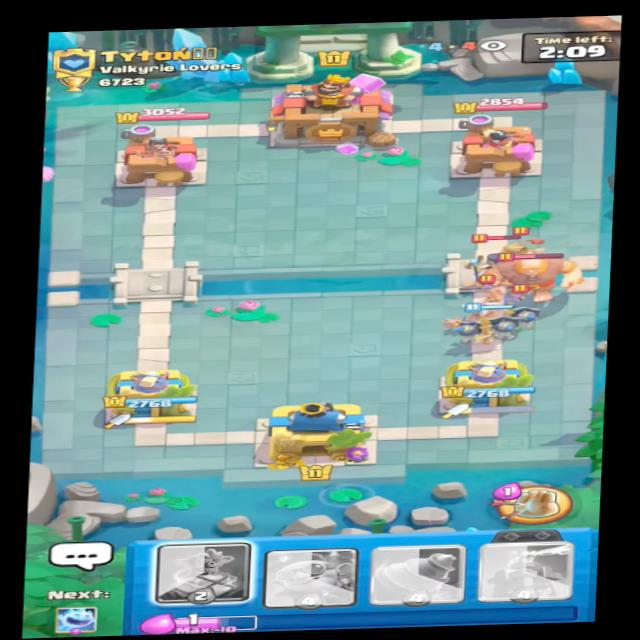giant: (484, 249, 588, 308)
night-witch: (463, 233, 533, 280)
prince: (488, 228, 556, 277)
